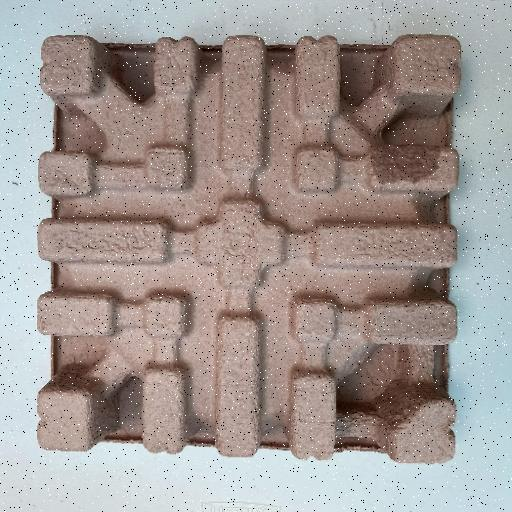Cardboard: (33, 31, 463, 464)
